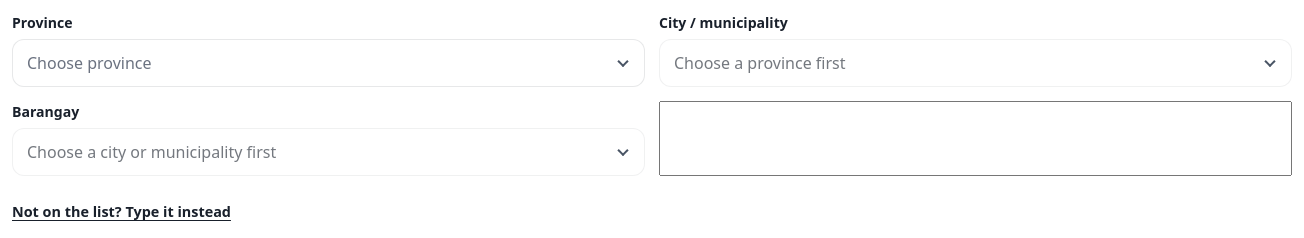
PlaceFields when the map fills the lists › clears the city and barangay when the map finds another province and nothing more
The width and height of the screenshot is (1304, 238).
Select "Cebu" in the dropdown labelled "Province" at point(328, 63), box [12,39,645,87]
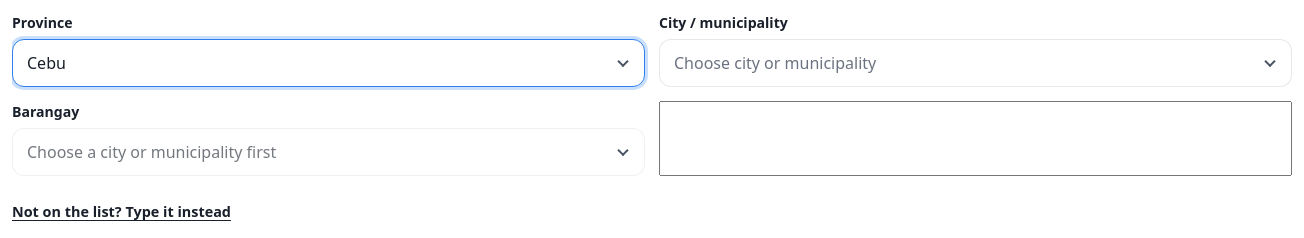
Select "Cebu City" in the dropdown labelled "City / municipality" at point(976, 63), box [659,39,1292,87]
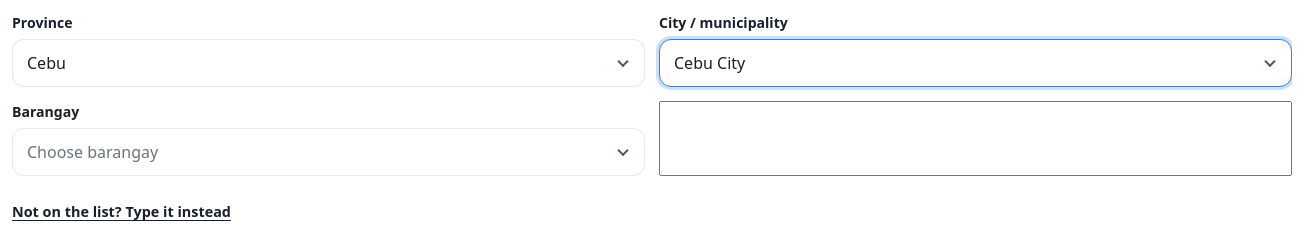
Select "Lahug" in the dropdown labelled "Barangay" at point(328, 152), box [12,128,645,176]
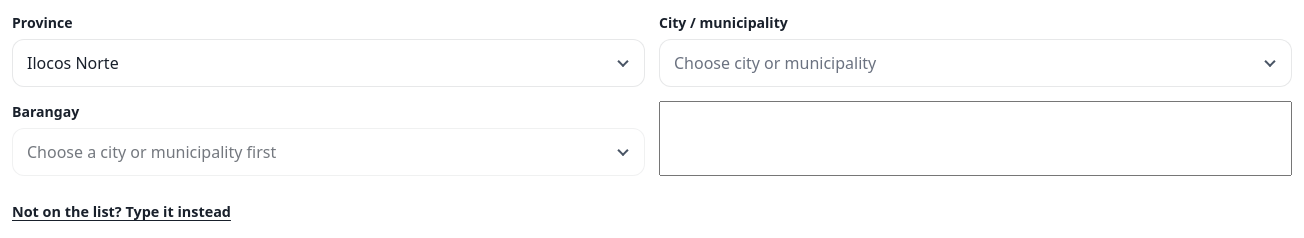
Result: the dropdown labelled "Barangay" is disabled at [12,128,645,176]
